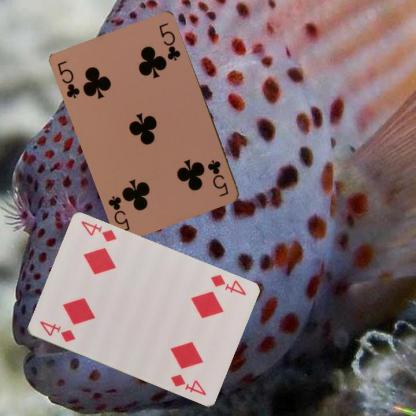4d: (36, 318, 76, 344), (208, 272, 248, 297)
5c: (55, 58, 81, 100), (205, 157, 230, 199)
